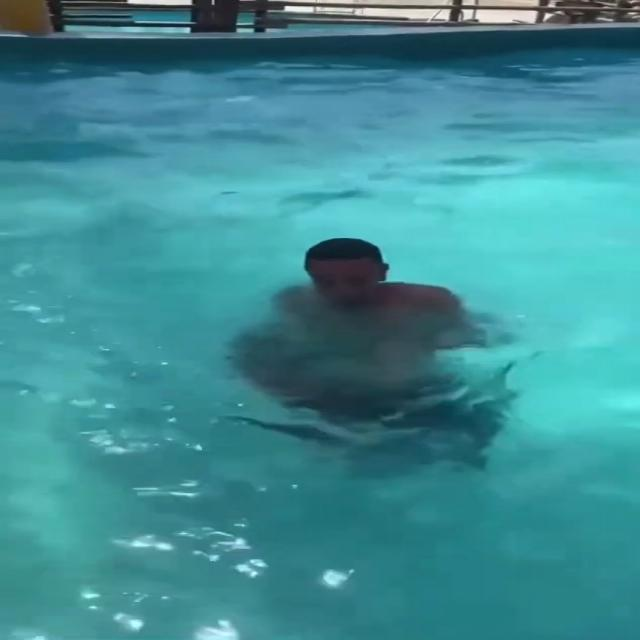swimming: (219, 228, 534, 438)
